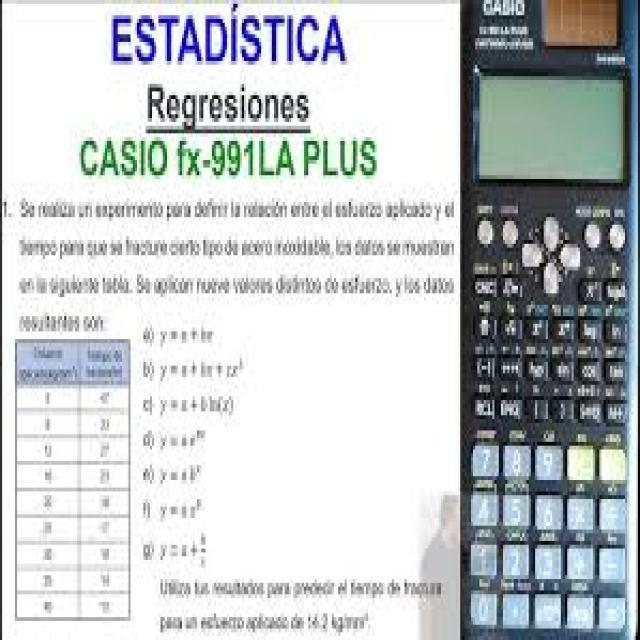Calculator: (457, 0, 640, 631)
